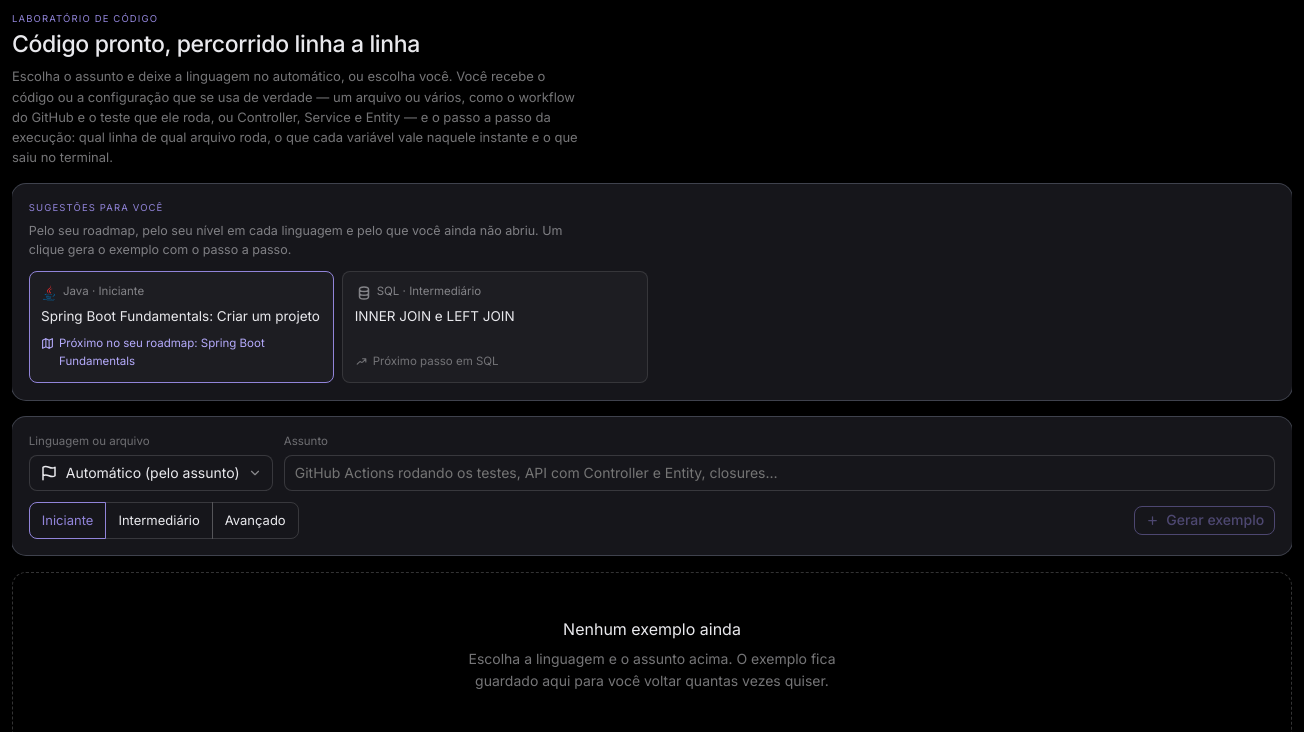
Test: laboratório de código › mostra várias sugestões com o motivo, e uma gera o exemplo no nível dela
The width and height of the screenshot is (1304, 732).
Expected: the text "Próximo no seu roadmap: Spring Boot Fundamentals" is shown, [41,336,265,368]
Expected: the text "Próximo passo em SQL" is shown, [355,349,499,371]
Click the button with aria-label "Gerar exemplo: INNER JOIN e LEFT JOIN em SQL": [495, 327] box [342,271,648,383]
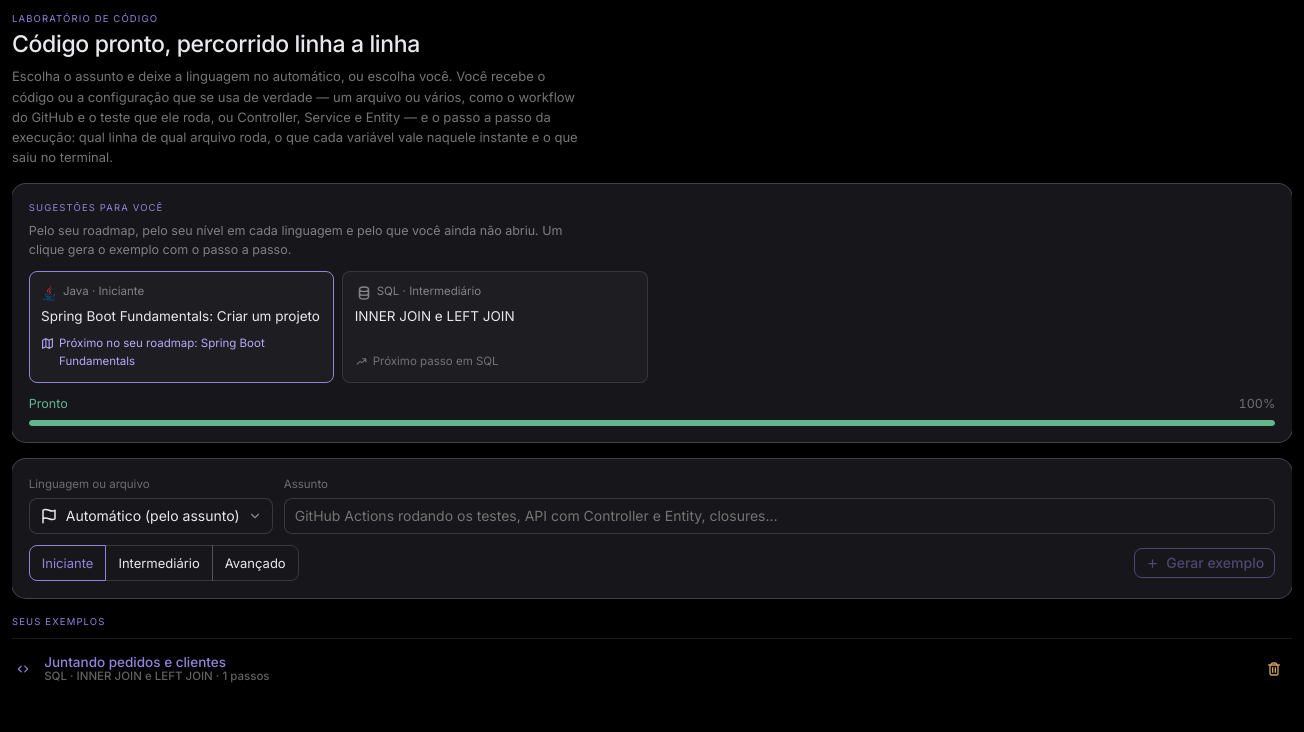
Expected: the text "Juntando pedidos e clientes" is shown, [44,654,226,670]
